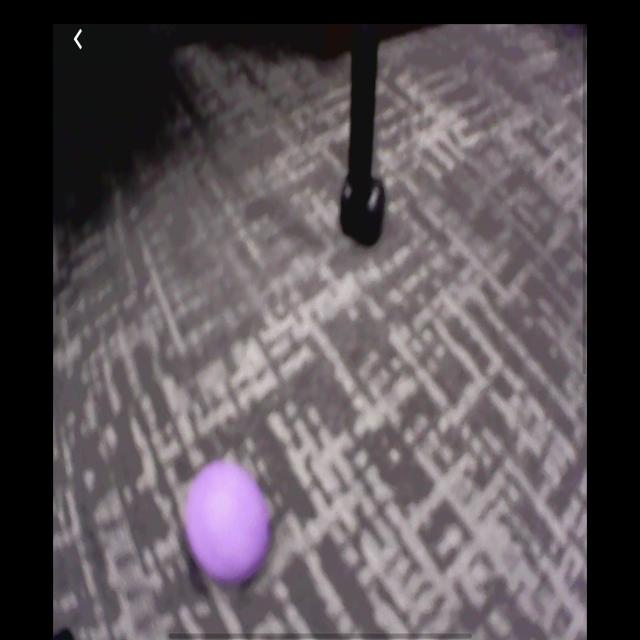ball: (184, 461, 273, 585)
